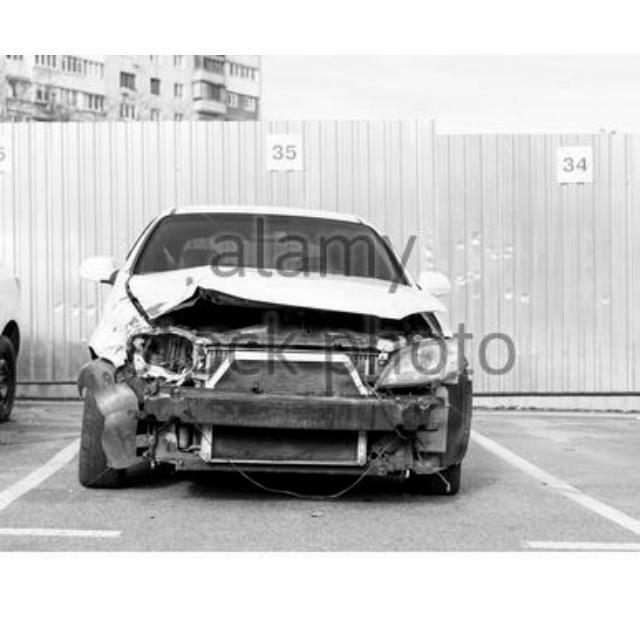bonnet-dent: (112, 269, 435, 332)
